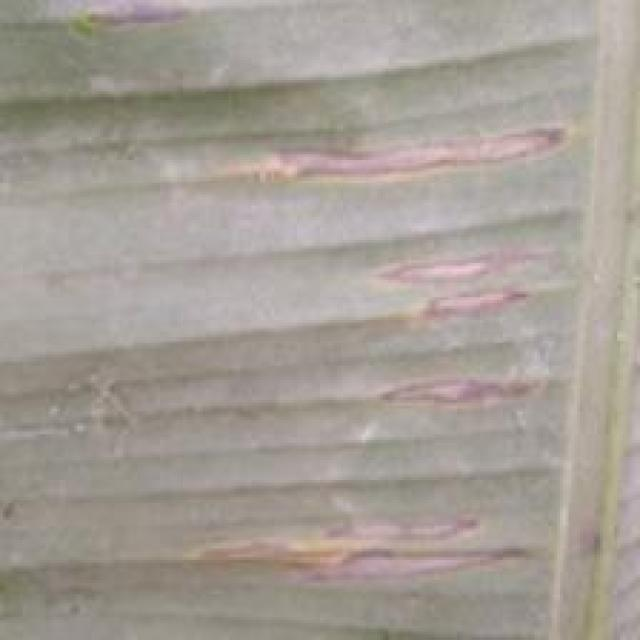Early_leaf_spot: (193, 492, 522, 600), (225, 106, 571, 195), (375, 228, 532, 330), (358, 361, 553, 417), (72, 0, 216, 48)
